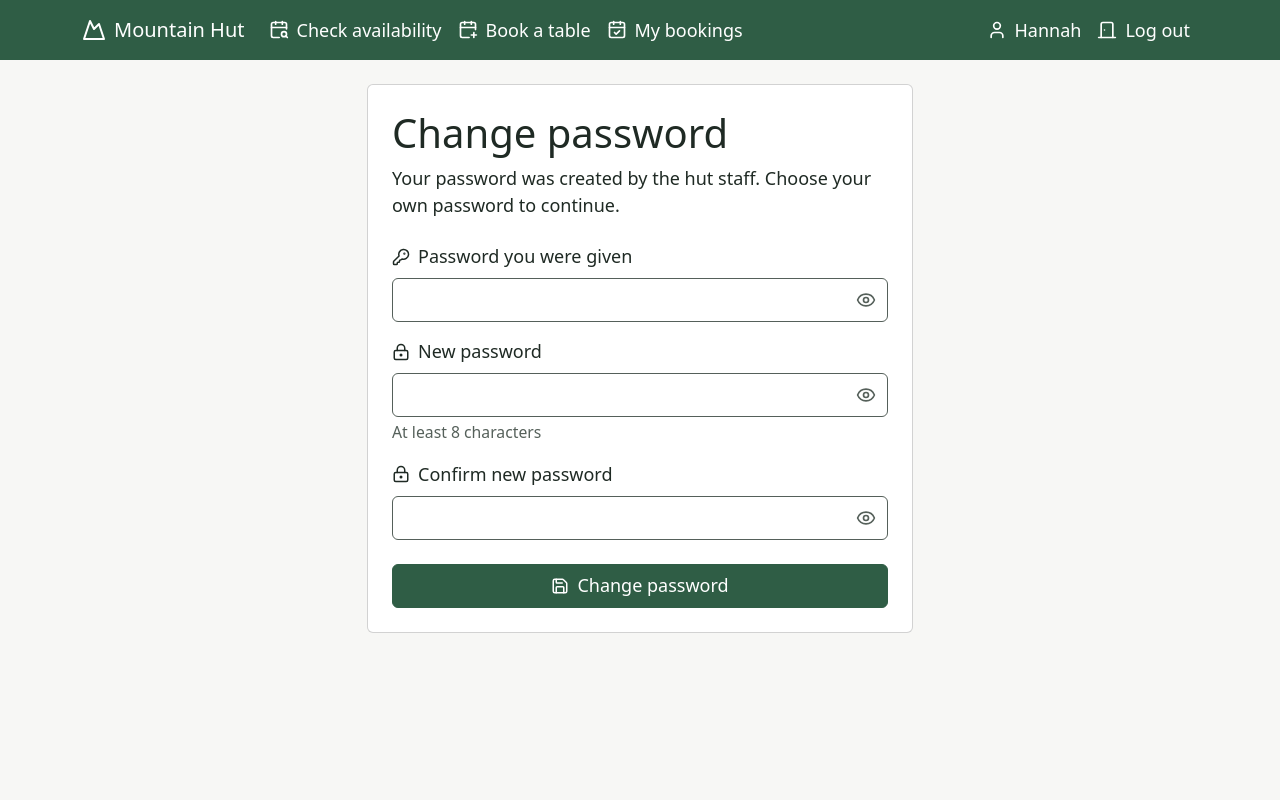
Scenario: F1 forced password change › in the whole app › after the change the hiker reaches the home page and stays there
This screenshot has width=1280, height=800.
Type "k7Qp2xWm9aTz" into the password field labelled "Password you were given" at point(640, 300), box [392,278,888,322]
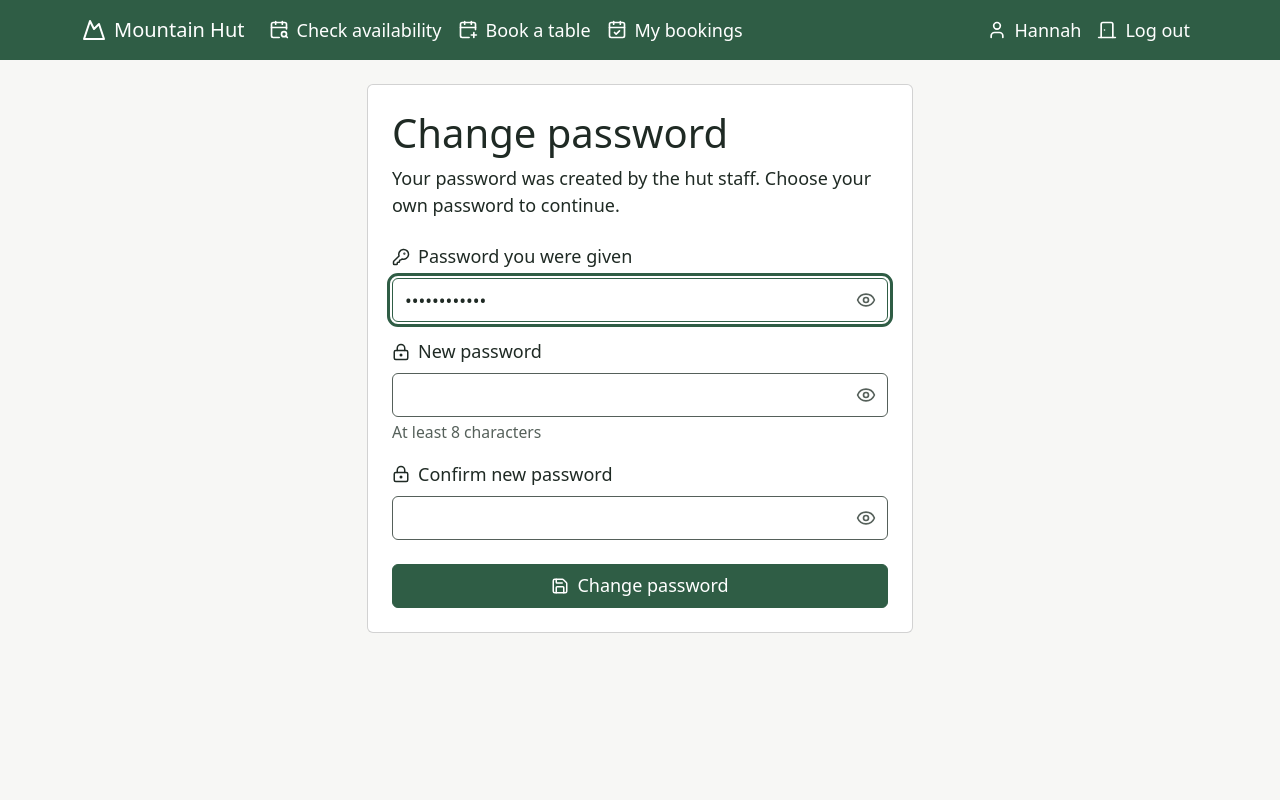
Type "my-own-secret-pw" into the password field labelled "New password" at point(640, 395), box [392,373,888,417]
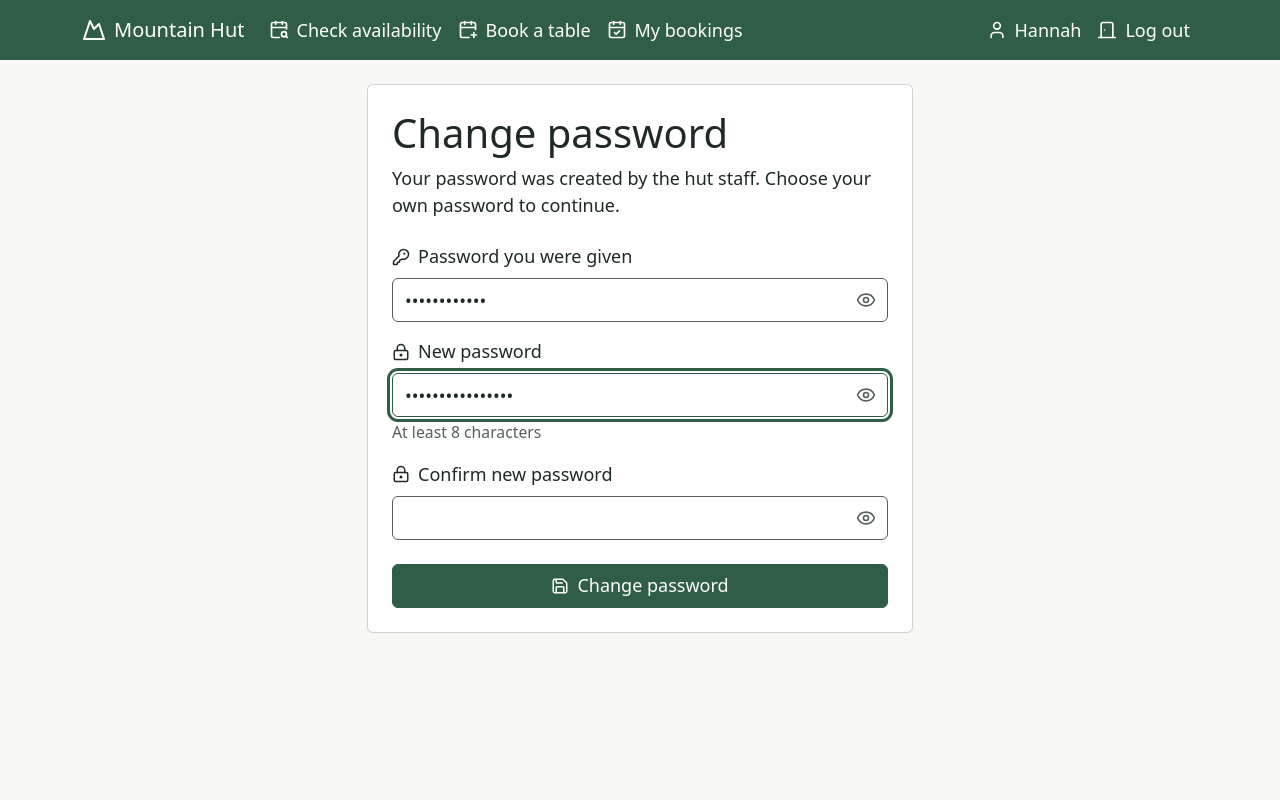
Type "my-own-secret-pw" into the password field labelled "Confirm new password" at point(640, 518), box [392,496,888,540]
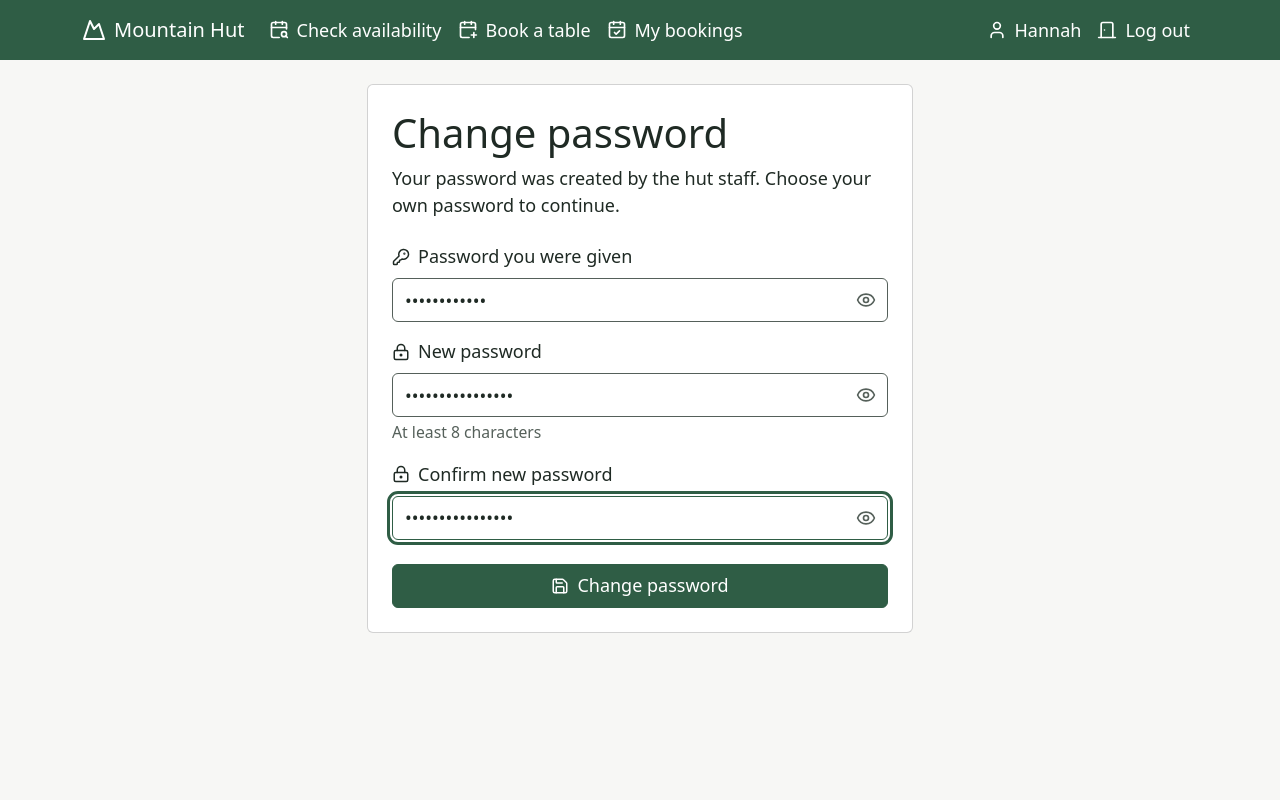
Click the button "Change password" at point(640, 586), box [392,564,888,608]
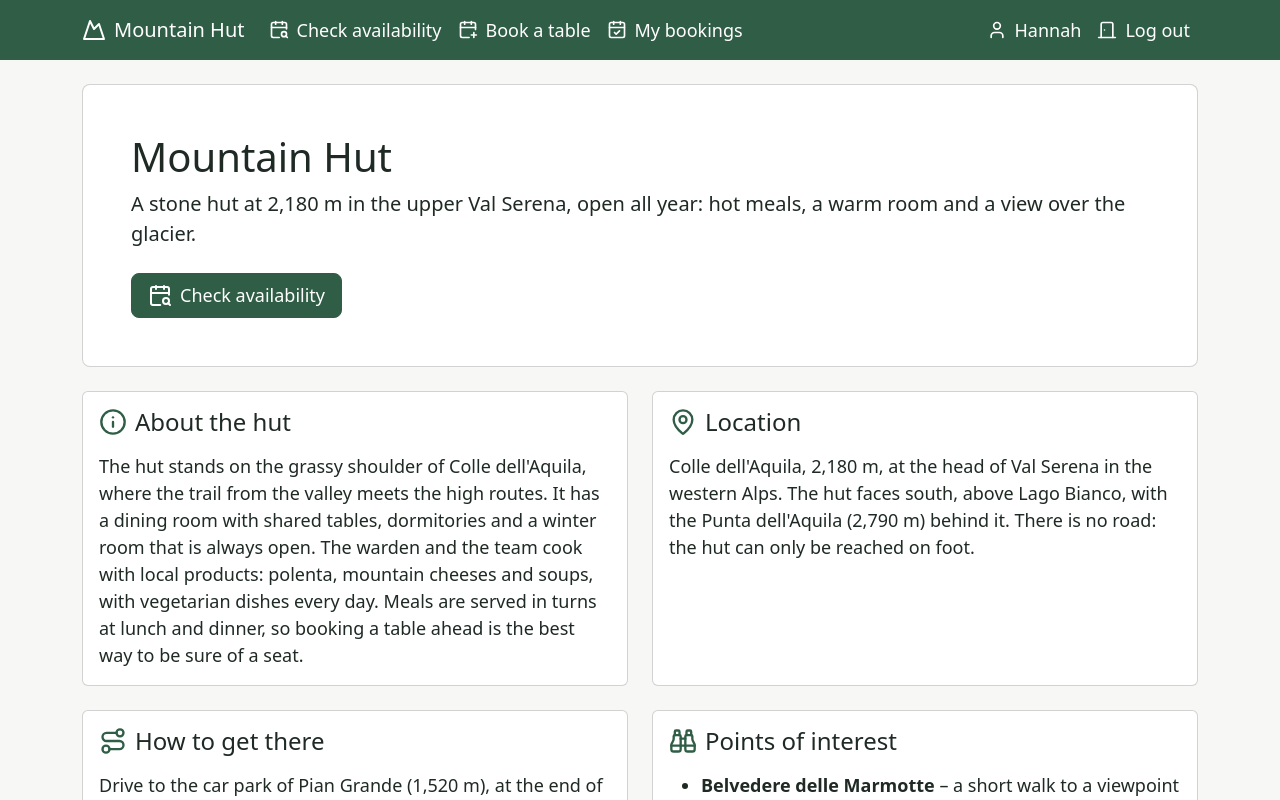
Now the heading "Mountain Hut" is shown, box [131,129,392,184]
Now the heading "Change password" is gone
